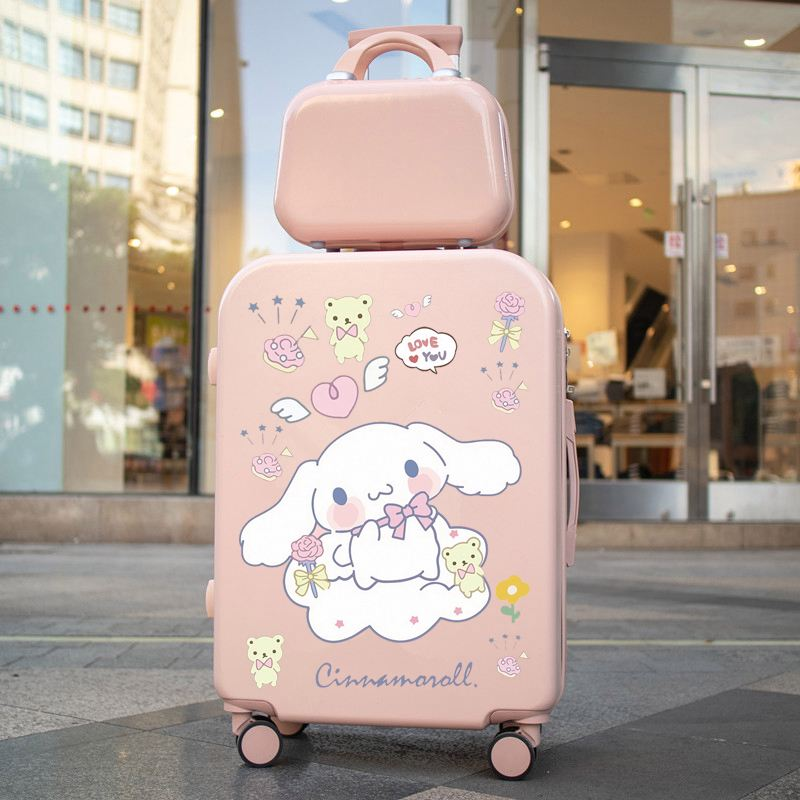box: (214, 248, 565, 729)
handle: (563, 395, 580, 572)
wheel: (488, 730, 536, 779), (237, 718, 281, 766)
